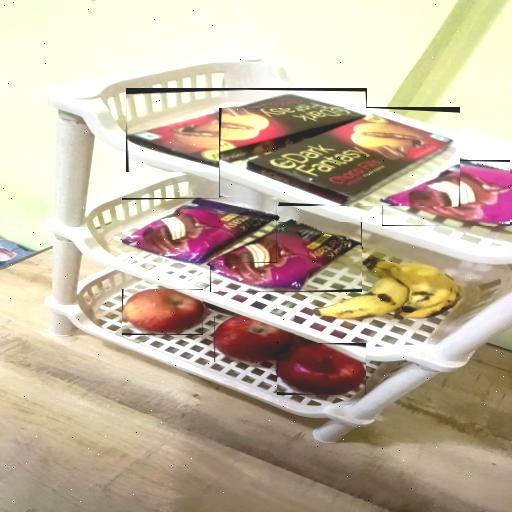Apple: (277, 343, 366, 395), (122, 289, 203, 335), (214, 316, 295, 362)
Choco Fills: (219, 109, 460, 205), (127, 90, 366, 172)
Choco Pie: (210, 222, 362, 292), (122, 198, 277, 263), (382, 160, 510, 226)
